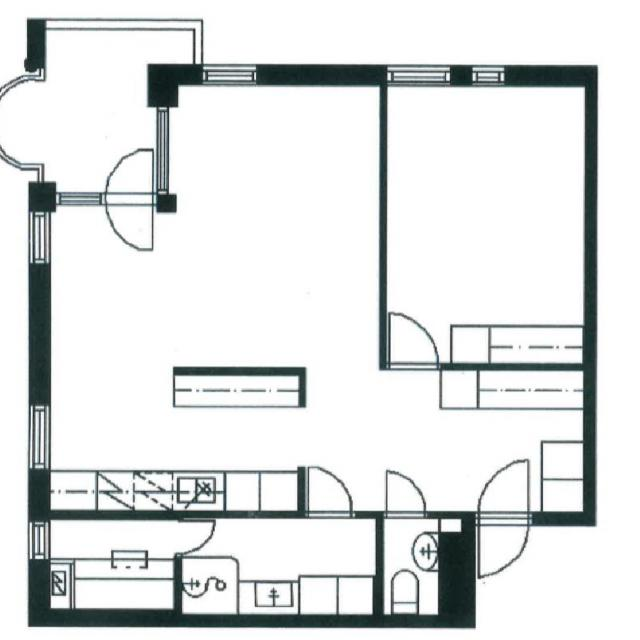door: (478, 512, 528, 576), (478, 461, 528, 525), (106, 192, 153, 253), (106, 145, 153, 205), (388, 315, 436, 370), (308, 467, 352, 520), (386, 473, 424, 520), (174, 522, 213, 554)
